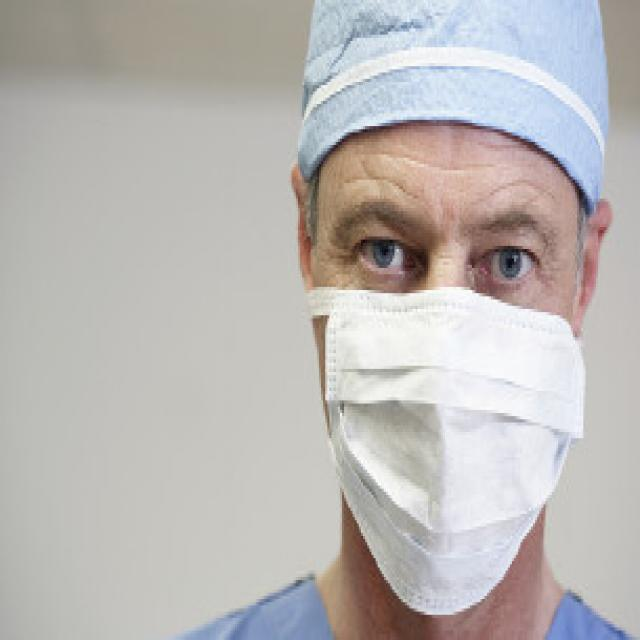mask: (323, 158, 583, 618)
